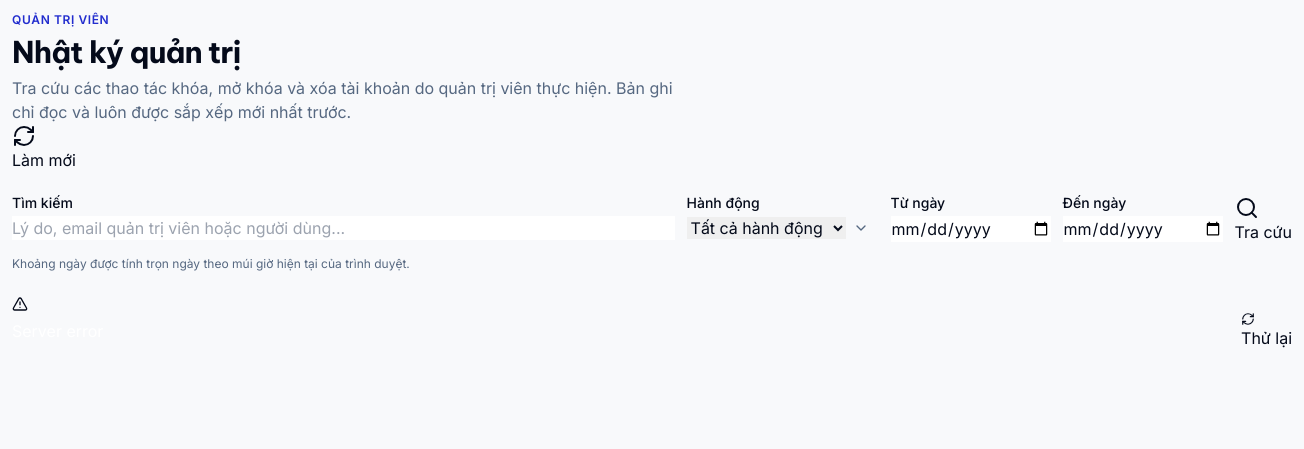
it: AdminAuditPage › shows an error state with retry
The width and height of the screenshot is (1304, 449).
Click the button "Thử lại".
click(1267, 331)  # box [1241,312,1292,350]
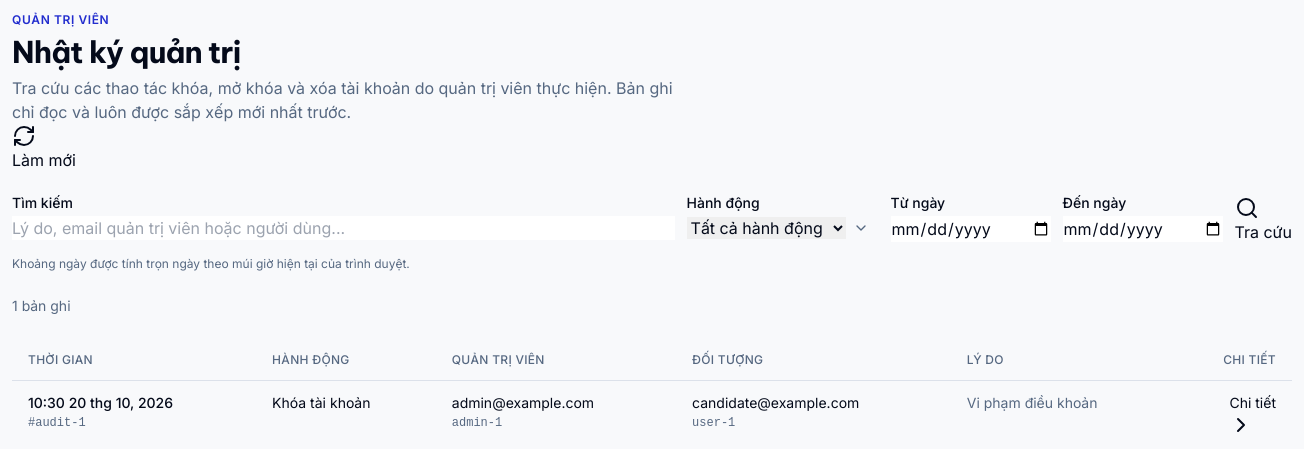
Expected: the text "candidate@example.com" is shown, [692,394,859,411]
